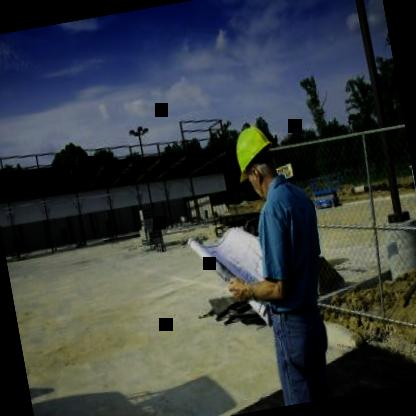helmet: (224, 112, 291, 202)
